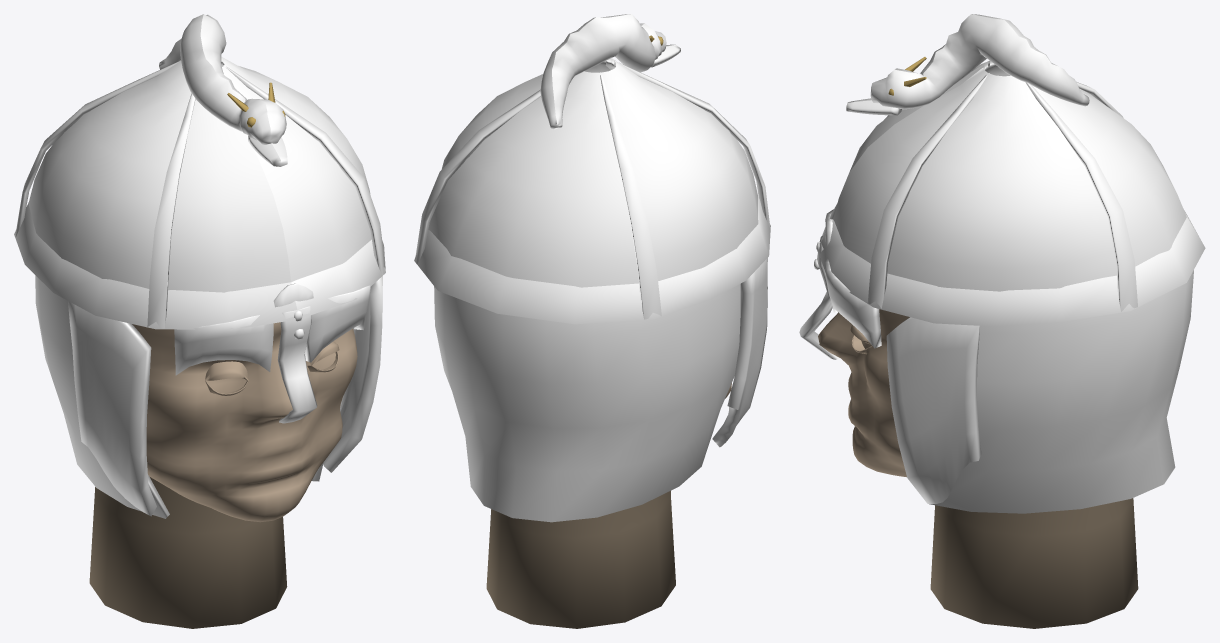
Rendered from helm-warden-wyrm.glb.
The picture shows the model from 3 angles, left to right: view 1: azimuth 30°, elevation 25°; view 2: azimuth 150°, elevation 25°; view 3: azimuth 270°, elevation 25°; orthographic projection. The views are drawn at different scales.
Parts seen in each view (by area): view 1: helm-warden-wyrm; view 2: helm-warden-wyrm; view 3: helm-warden-wyrm.
Boxes of the visible parts, box(x1,y1,x2,y2) form: helm-warden-wyrm: box(14, 14, 385, 628); helm-warden-wyrm: box(414, 14, 770, 628); helm-warden-wyrm: box(799, 14, 1205, 628).
Size of the model in its own units: 0.2436 by 0.4416 by 0.2854.
